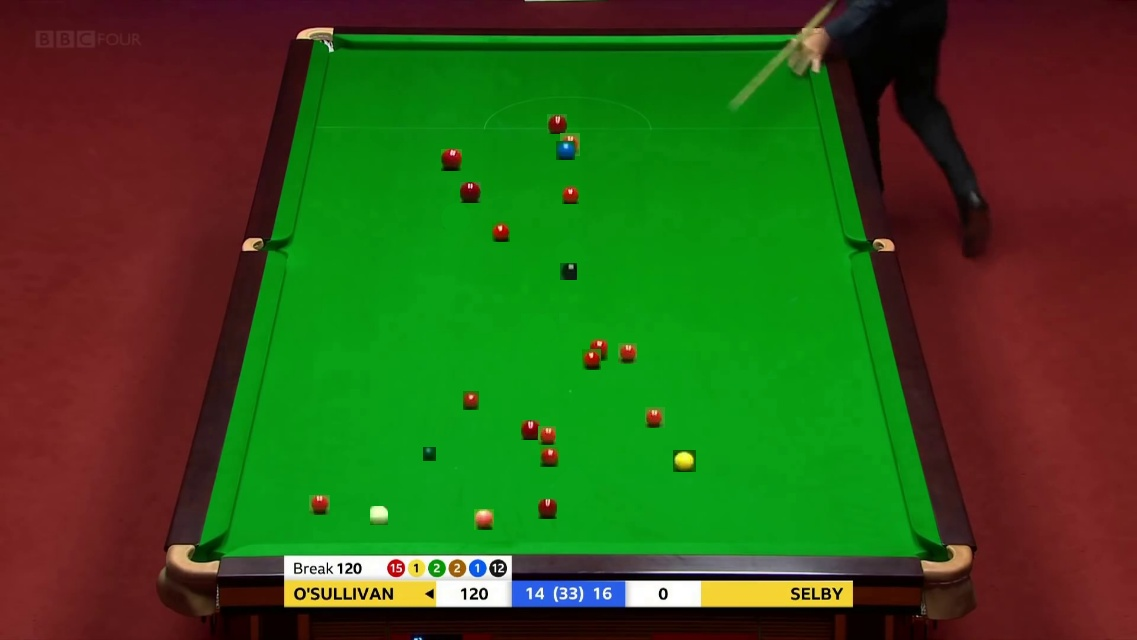black: (560, 263, 577, 280)
blue: (556, 141, 575, 160)
brown: (460, 182, 481, 203)
green: (423, 447, 437, 460)
pink: (474, 509, 495, 529)
red: (441, 149, 463, 170), (560, 133, 583, 153), (645, 407, 666, 427), (309, 495, 329, 516), (547, 114, 567, 134), (582, 349, 603, 368), (618, 343, 639, 362), (590, 339, 612, 357), (540, 447, 560, 466), (521, 420, 541, 439), (538, 499, 558, 518), (492, 221, 513, 239), (538, 426, 557, 444), (562, 185, 581, 202), (463, 391, 482, 407)
white: (370, 506, 389, 524)
yellow: (673, 450, 695, 473)
